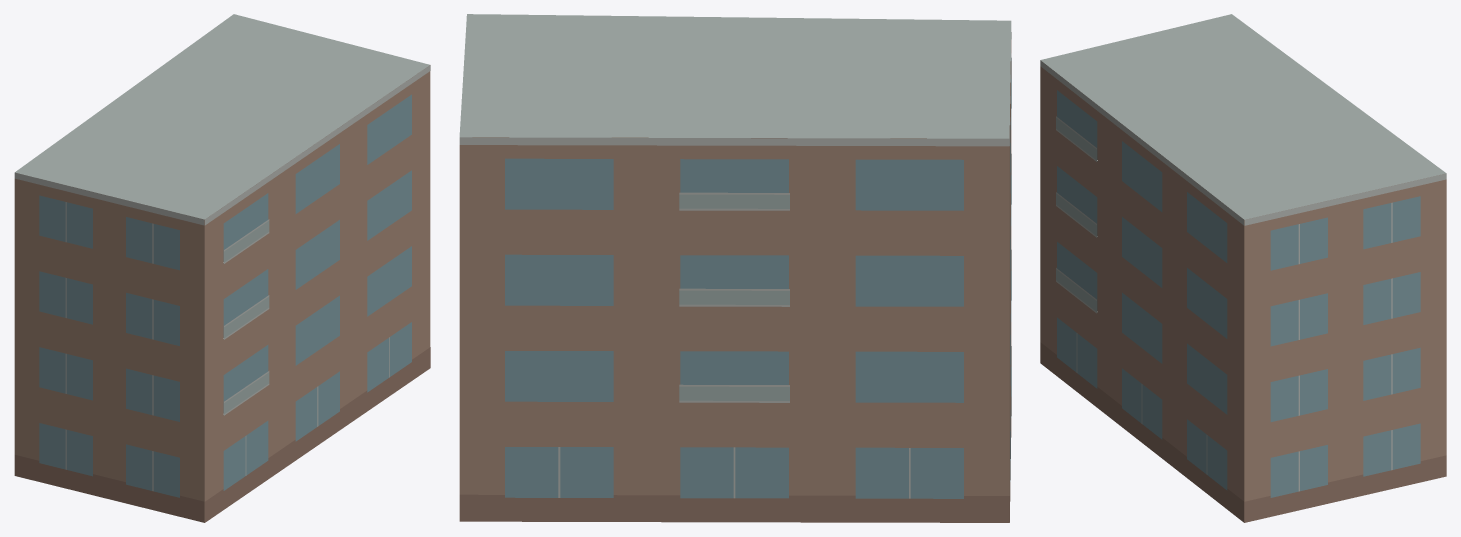
File: survey-upis-32712001.glb
3 views of the same model, side by side, from view 1: azimuth 30°, elevation 25°; view 2: azimuth 150°, elevation 25°; view 3: azimuth 270°, elevation 25° (orthographic). The views are drawn at different scales.
Parts seen in each view (by area): view 1: survey-upis-32712001.tmp; view 2: survey-upis-32712001.tmp; view 3: survey-upis-32712001.tmp.
Part boxes in pixels (left/top/right/bottom): survey-upis-32712001.tmp: left=14, top=14, right=430, bottom=522; survey-upis-32712001.tmp: left=459, top=14, right=1011, bottom=522; survey-upis-32712001.tmp: left=1040, top=14, right=1446, bottom=522.
Bounding box in the file's own units: 17.78 × 12.2 × 14.83.
